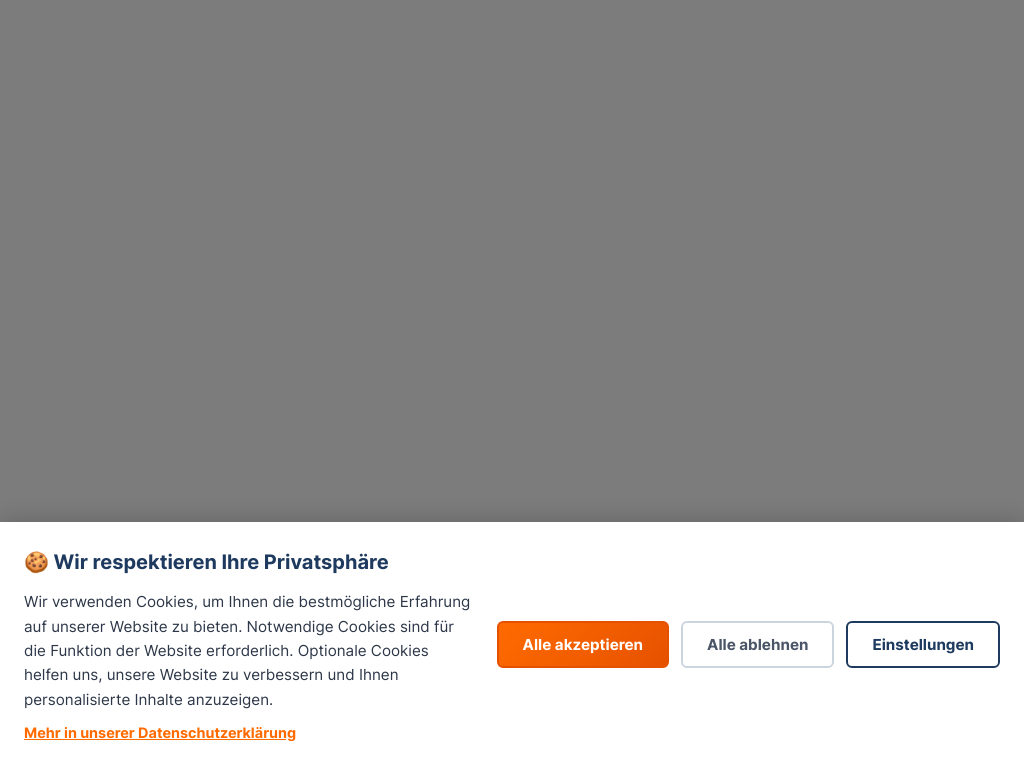
Test: CookieBanner — settings modal › the close button dismisses the modal without saving
Click the button "Einstellungen" at (923,645), box [846,622,1000,668]
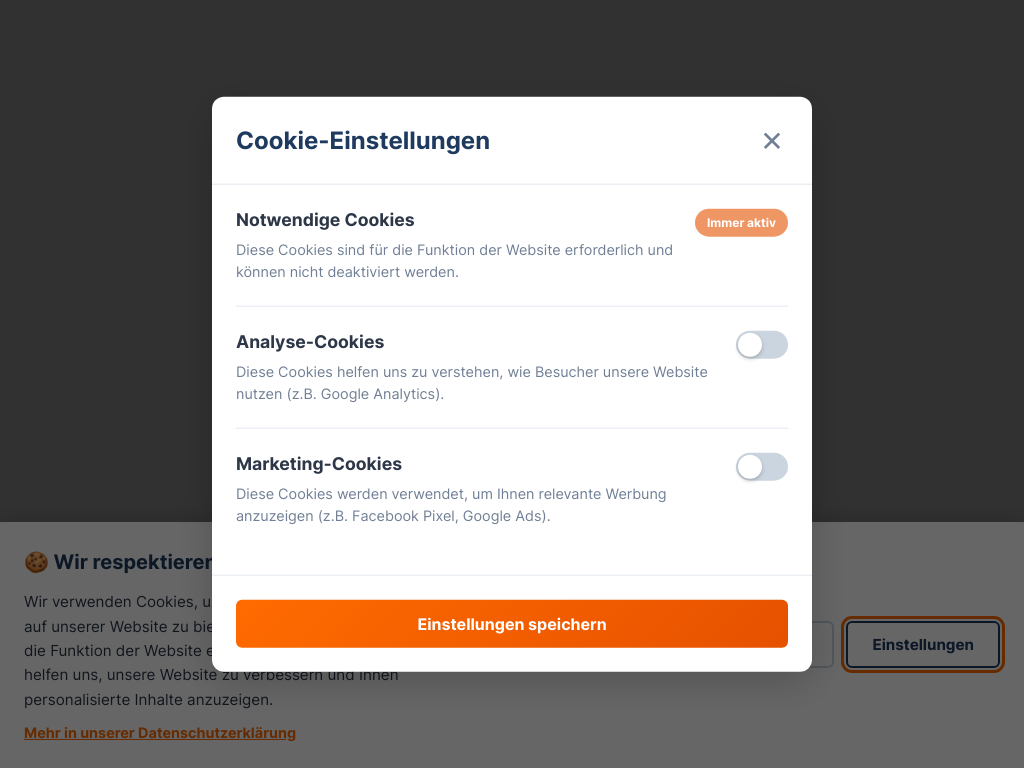
Click the button named "Schließen" at (772,140), box [756,124,788,156]
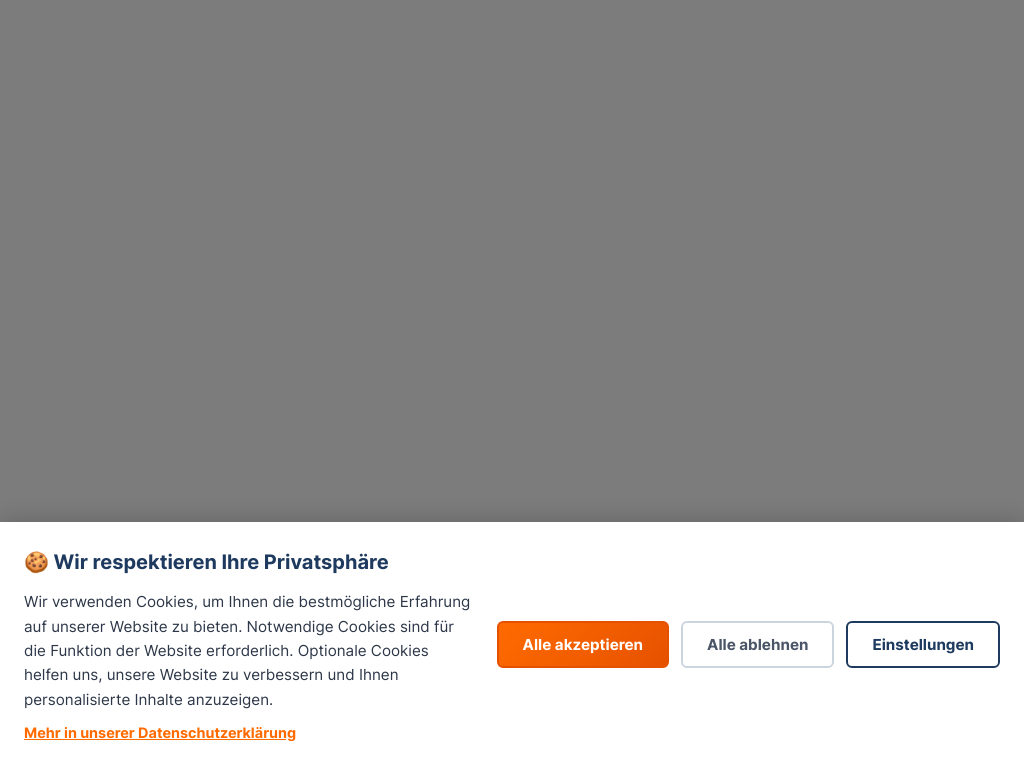
Check: the text "🍪 Wir respektieren Ihre Privatsphäre" is shown, box [24,550,389,574]
Check: the text "Cookie-Einstellungen" is gone
